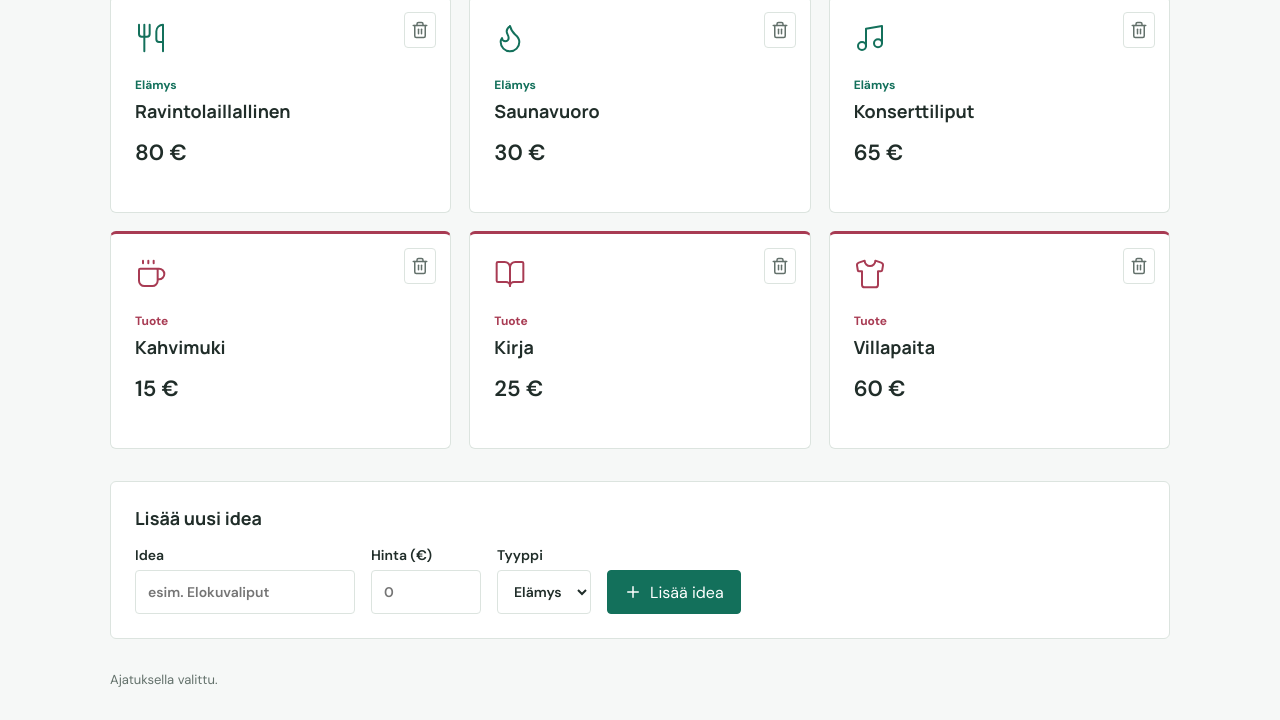
gift ideas screen › creates a new gift idea through the form
(page scrolled)
Expected: the heading "Kirja" is shown, [494,335,534,359]
Step 1. Type "Elokuvaliput" into the field labelled "Idea" → (245, 592), box [135,570,355,614]
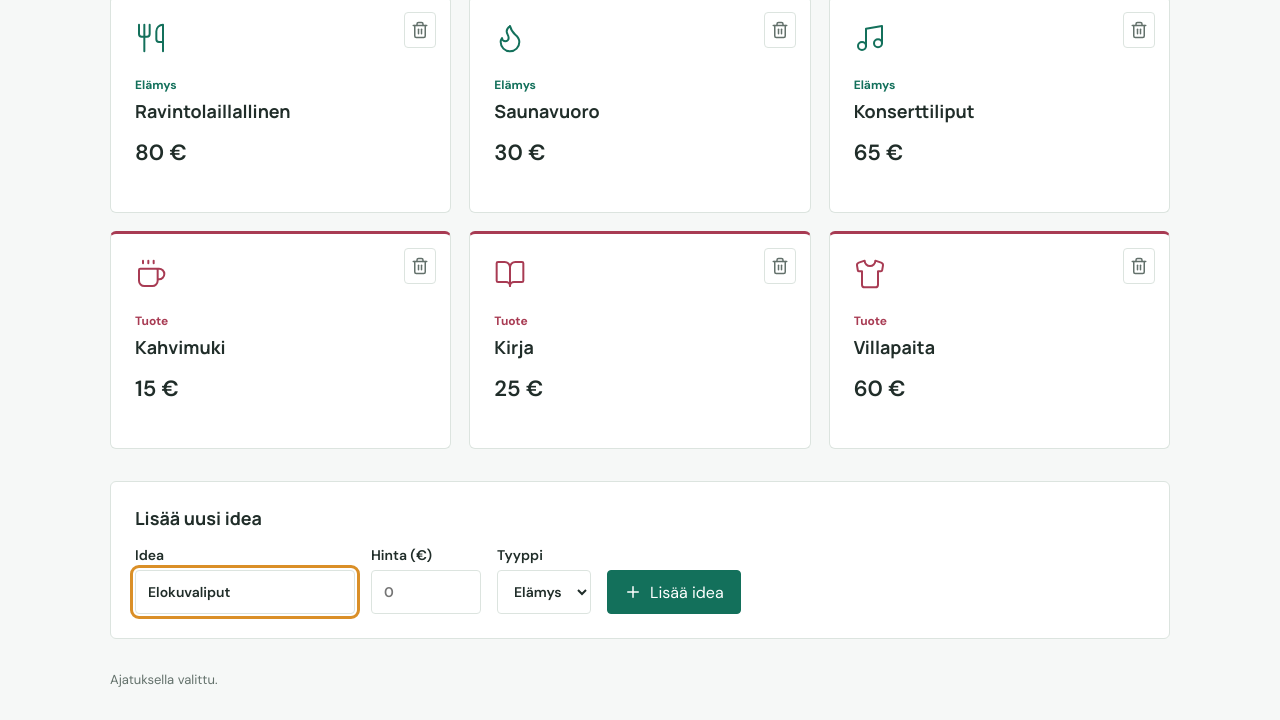
Step 2. Type "24" into the number field labelled "Hinta (€)" → (426, 592), box [371,570,481,614]
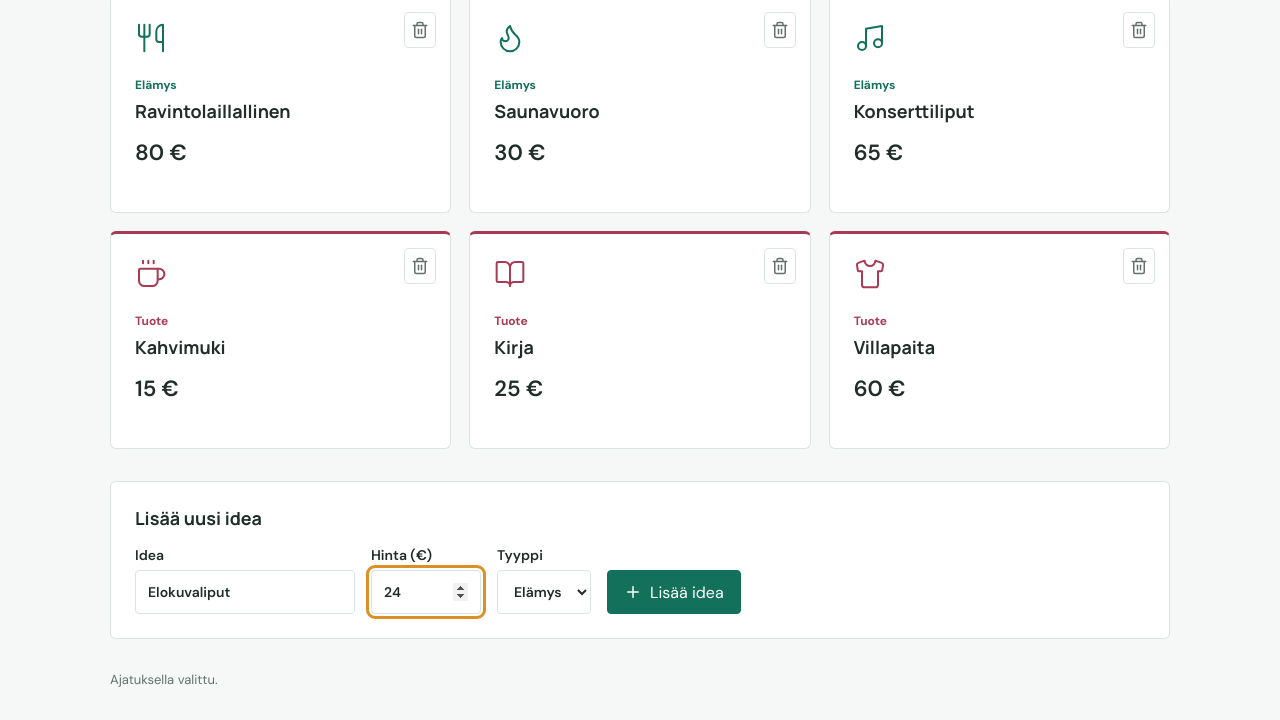
Step 3. Select "Elämys" in the dropdown labelled "Tyyppi" → (544, 592), box [497,570,591,614]
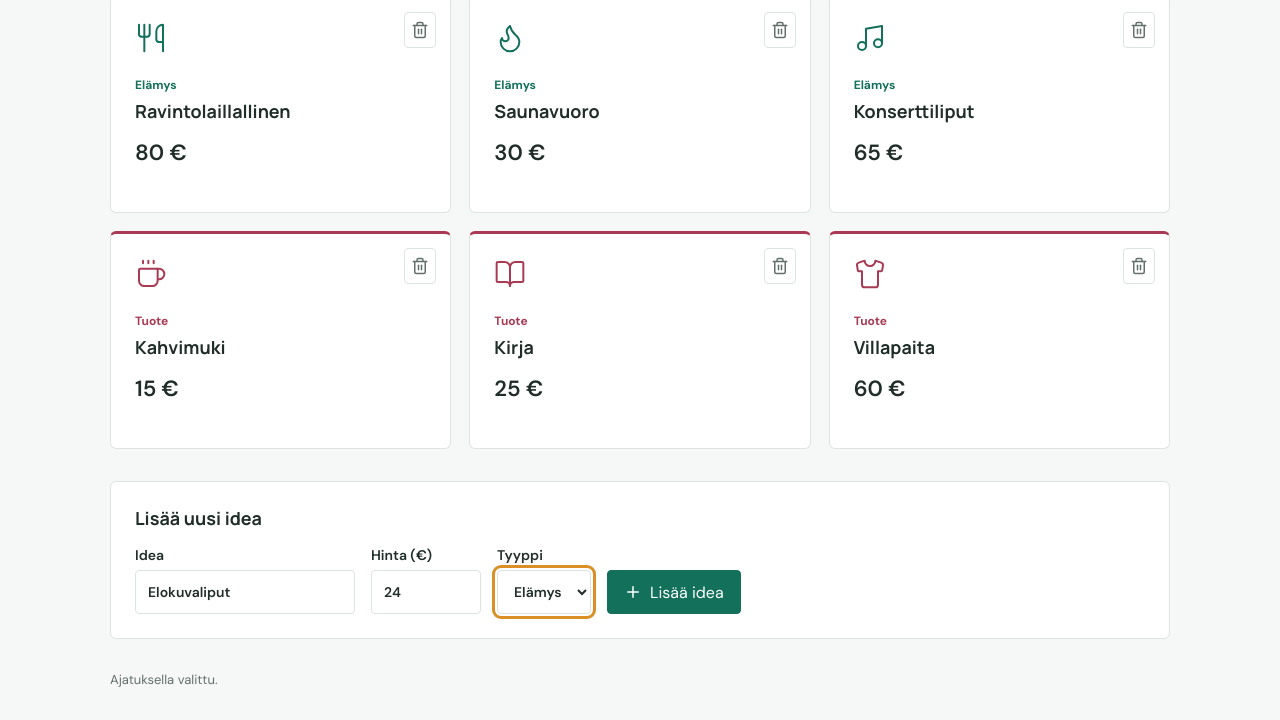
Step 4. Click the button "Lisää idea" → (674, 592), box [607,570,741,614]
(page scrolled)
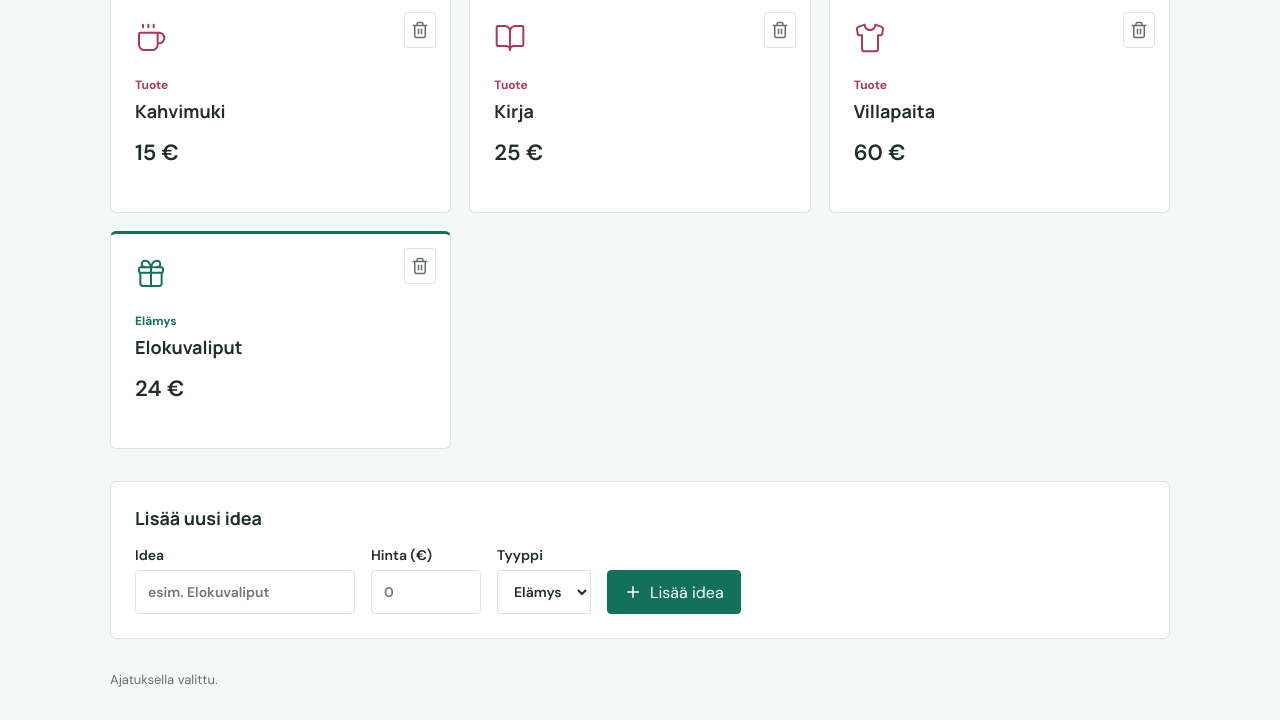
Result: the heading "Elokuvaliput" is shown at [135,335,243,359]
Result: the number of list items is 7
Result: the field labelled "Idea" is empty at [135,570,355,614]
